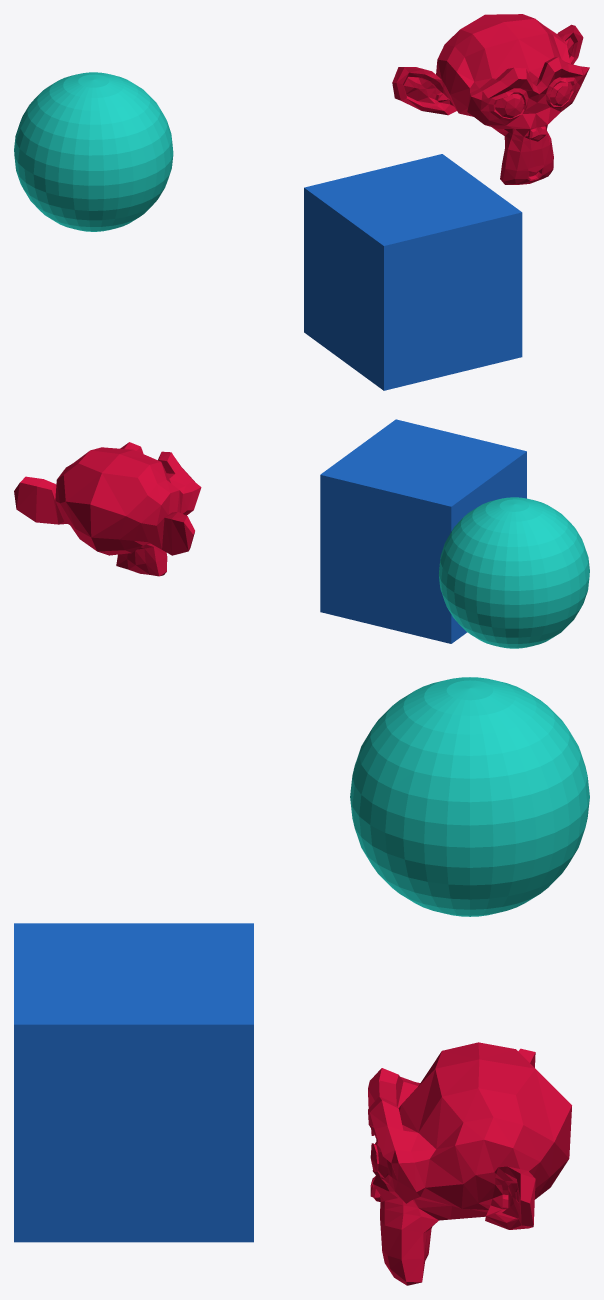
3 renders of one model, top to bottom at view 1: azimuth 30°, elevation 25°; view 2: azimuth 150°, elevation 25°; view 3: azimuth 270°, elevation 25°, orthographic. The views are drawn at different scales.
Parts seen in each view (by area): view 1: Cube, Sphere, Suzanne; view 2: Cube, Sphere, Suzanne; view 3: Cube, Sphere, Suzanne.
Part boxes in pixels (bbox=[...]): Cube: bbox=[304, 154, 522, 390]; Sphere: bbox=[14, 72, 173, 231]; Suzanne: bbox=[392, 14, 589, 184]; Cube: bbox=[320, 419, 526, 643]; Sphere: bbox=[439, 497, 589, 648]; Suzanne: bbox=[14, 442, 201, 576]; Cube: bbox=[14, 923, 253, 1242]; Sphere: bbox=[350, 677, 589, 916]; Suzanne: bbox=[368, 1042, 571, 1285].
Size of the model in its own units: 8.34 by 4.8 by 3.23.
